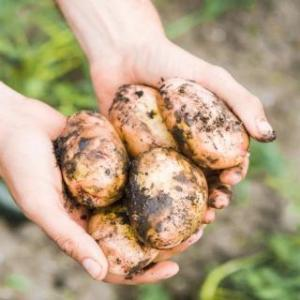potato: (158, 78, 248, 169), (126, 150, 206, 248), (56, 111, 124, 207), (109, 85, 176, 156), (92, 208, 158, 278)
